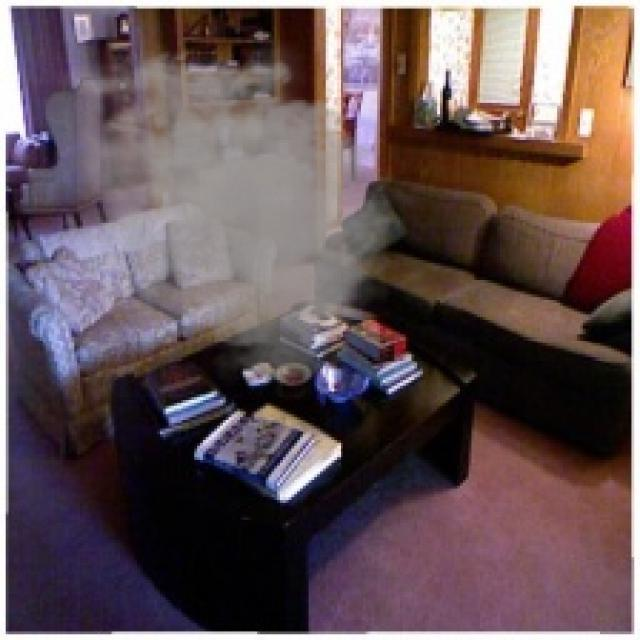Smoke: (48, 34, 414, 392)
